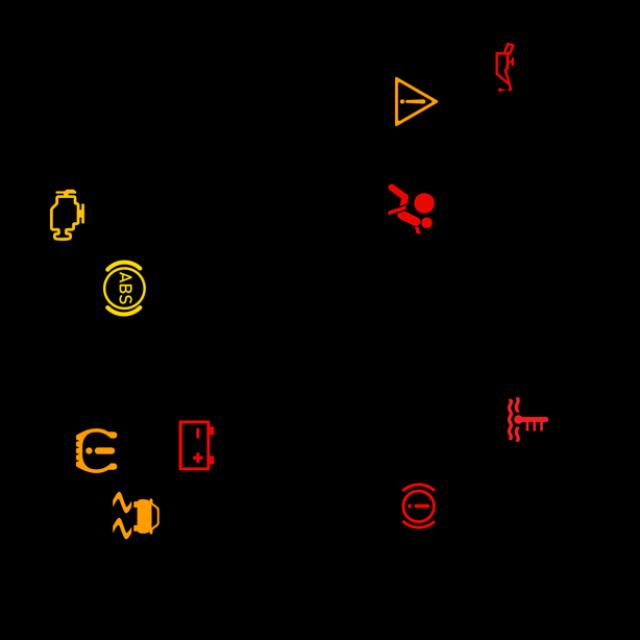Anti Lock Braking System: (94, 256, 156, 318)
Braking System Issue: (388, 474, 450, 536)
Charging System Issue: (165, 414, 228, 476)
Check Engine: (36, 183, 98, 245)
Electronic Stability Problem -ESP-: (105, 484, 167, 546)
Engine Overheating Warning Light: (497, 388, 559, 450)
Low Engine Oil Warning Light: (474, 35, 536, 97)
Low Tire Pressure Warning Light: (66, 419, 128, 481)
Master warning light: (386, 70, 448, 132)
SRS-Airbag: (380, 177, 442, 239)
